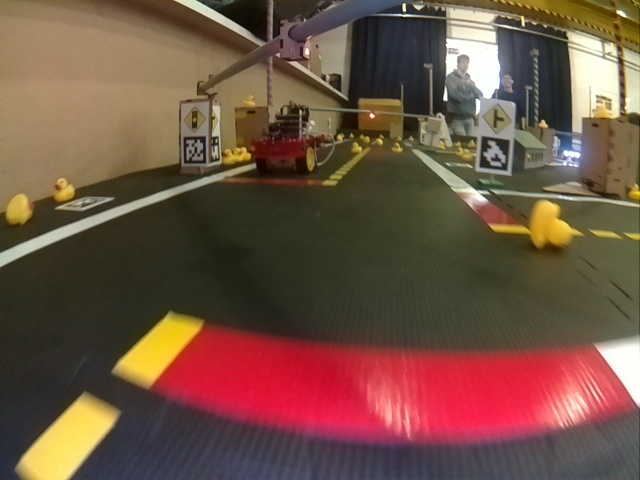Duckie: (531, 200, 570, 247), (6, 194, 33, 224), (55, 179, 73, 199), (592, 105, 609, 118), (223, 149, 236, 165), (351, 142, 361, 152), (391, 144, 401, 152)
Intersection sign: (482, 104, 513, 133), (211, 108, 219, 133)
QR code: (479, 136, 510, 172), (57, 196, 113, 212), (183, 135, 204, 164), (212, 136, 220, 164)
Signal sign: (183, 106, 207, 132)
Traffic light: (280, 21, 311, 61), (368, 109, 376, 119)
